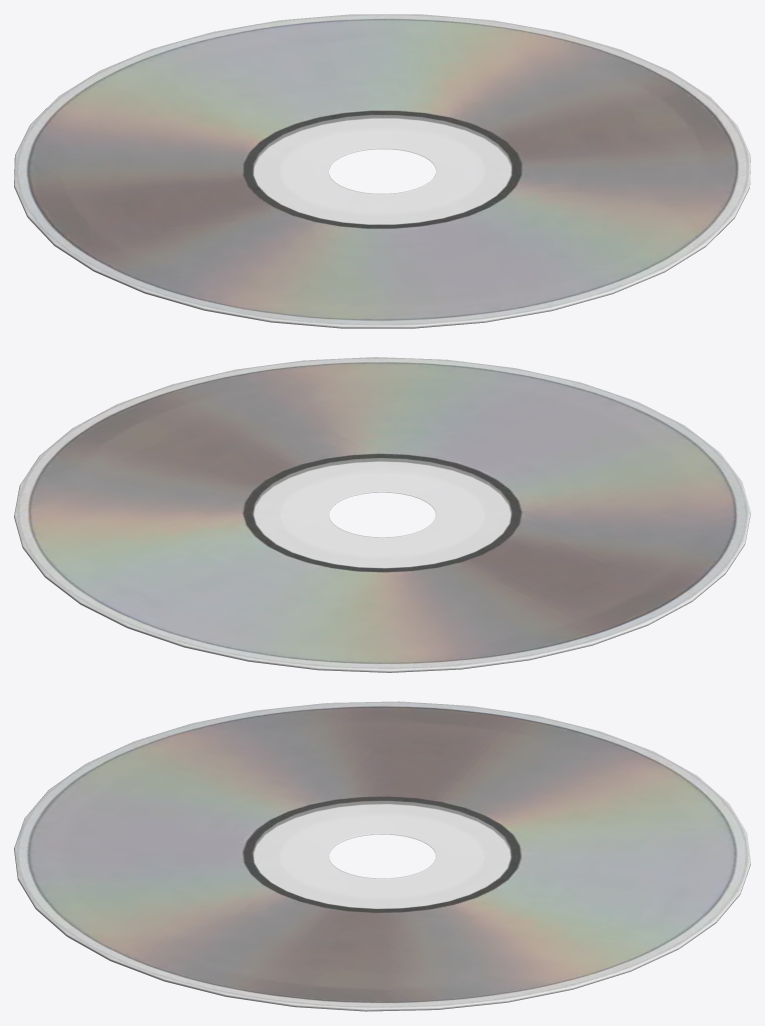
3 views of the same model, one above another, from view 1: azimuth 30°, elevation 25°; view 2: azimuth 150°, elevation 25°; view 3: azimuth 270°, elevation 25° (orthographic).
Visible parts, largest first — view 1: cd; view 2: cd; view 3: cd.
Boxes of the visible parts, x1,y1,x2,y2 form: cd: [14, 14, 750, 328]; cd: [14, 357, 750, 672]; cd: [14, 701, 750, 1011].
Bounding box in the file's own units: 0.107 × 0.00113 × 0.107.
Materials: 1 (1 with a texture image).
